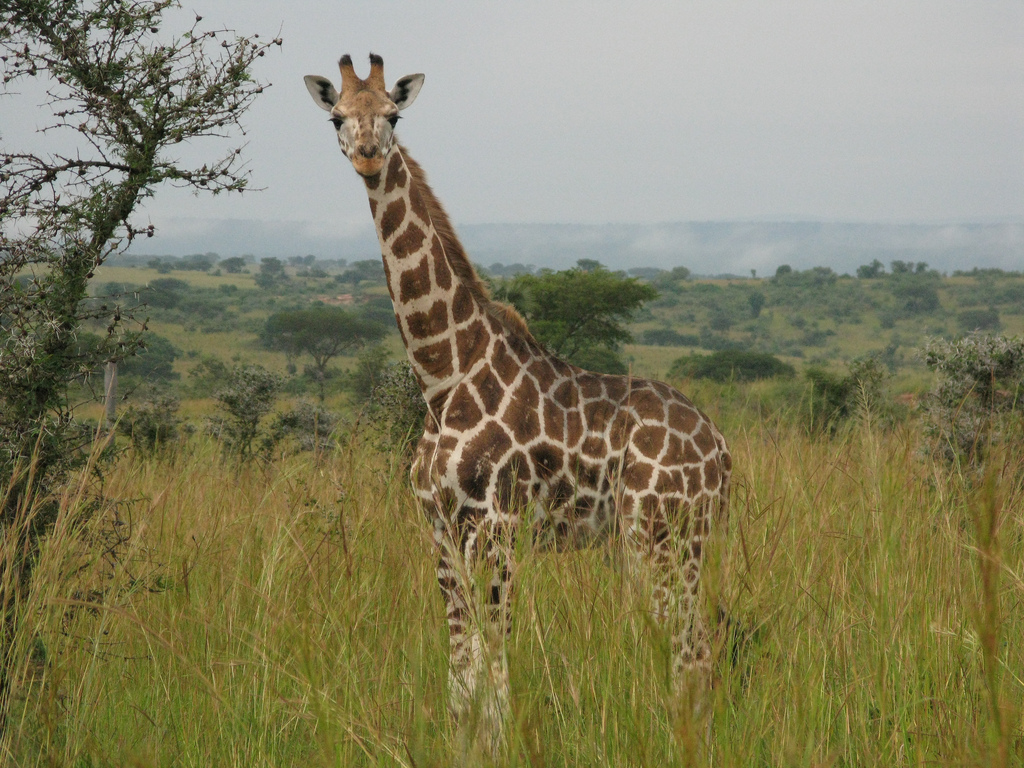giraffe: (266, 43, 747, 714)
